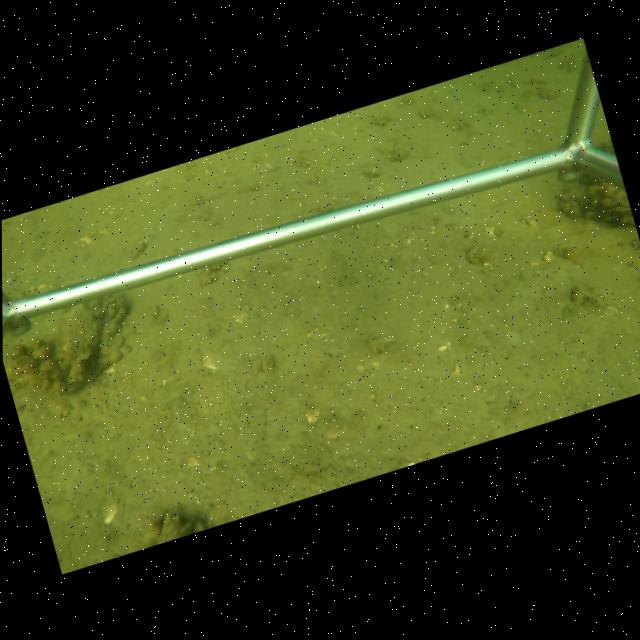Oyster-Indeterminate: (53, 301, 103, 391)
Oyster-Open: (579, 203, 628, 224)
